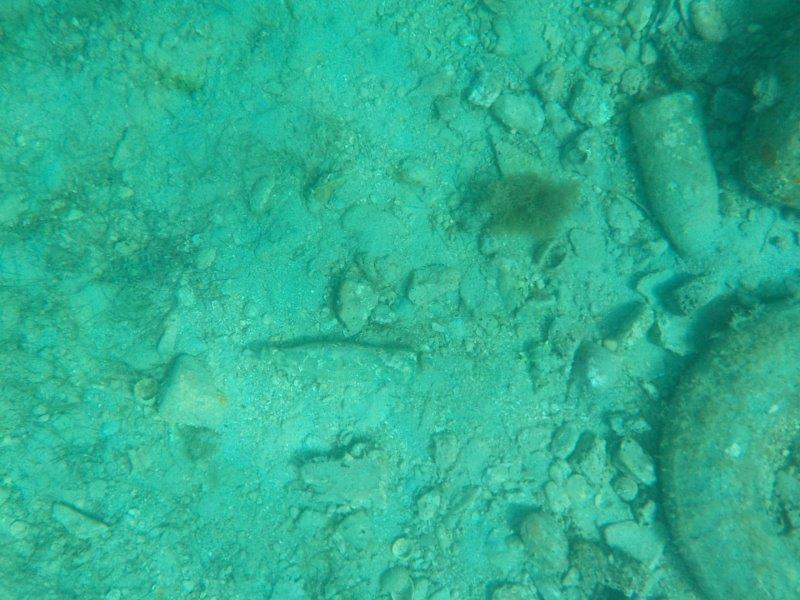bottle: (624, 87, 727, 264), (258, 339, 421, 392)
